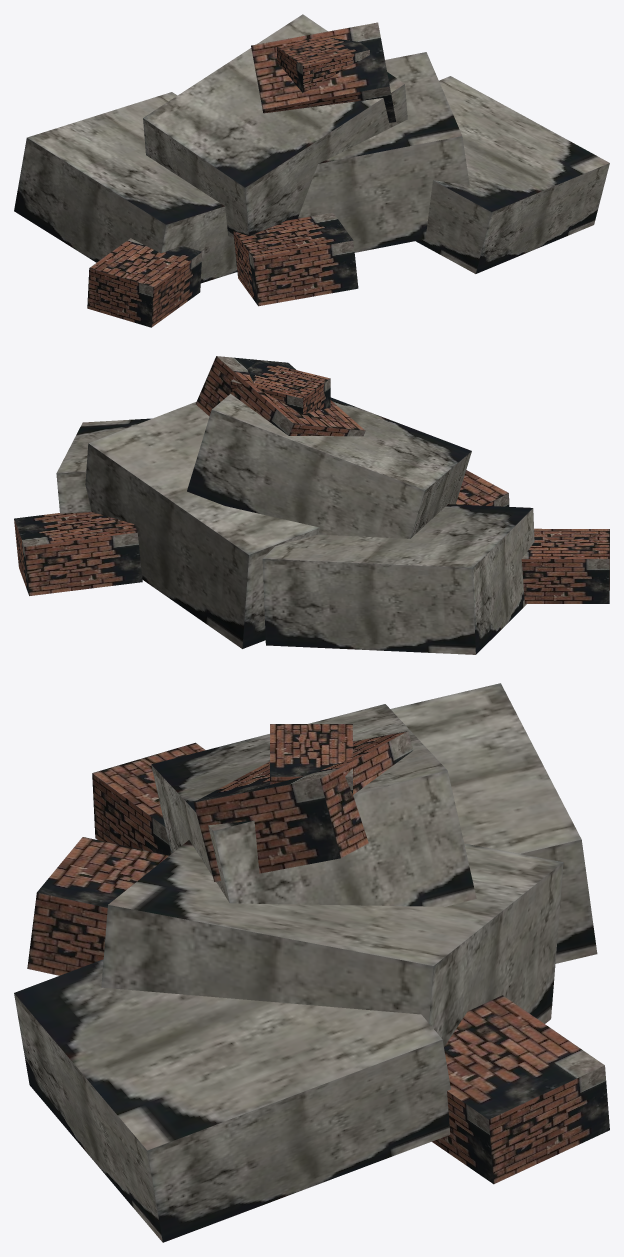
The model's file is sf_rubble_concrete_blocks.glb.
3 views of the same model, one above another, from view 1: azimuth 30°, elevation 25°; view 2: azimuth 150°, elevation 25°; view 3: azimuth 270°, elevation 25° (orthographic). The views are drawn at different scales.
Visible parts, largest first — view 1: ConcreteAndBrickDebris_Root, ConcreteAndBrickDebris_AnimPart; view 2: ConcreteAndBrickDebris_Root, ConcreteAndBrickDebris_AnimPart; view 3: ConcreteAndBrickDebris_Root, ConcreteAndBrickDebris_AnimPart.
Part boxes in pixels (bbox=[...]): ConcreteAndBrickDebris_Root: bbox=[14, 14, 609, 327]; ConcreteAndBrickDebris_AnimPart: bbox=[277, 36, 369, 92]; ConcreteAndBrickDebris_Root: bbox=[14, 356, 609, 654]; ConcreteAndBrickDebris_AnimPart: bbox=[230, 361, 330, 413]; ConcreteAndBrickDebris_Root: bbox=[14, 683, 609, 1242]; ConcreteAndBrickDebris_AnimPart: bbox=[270, 724, 352, 794].
Bounding box in the file's own units: 1.81 × 0.7082 × 1.15.
Materials: 1 (1 with a texture image).
